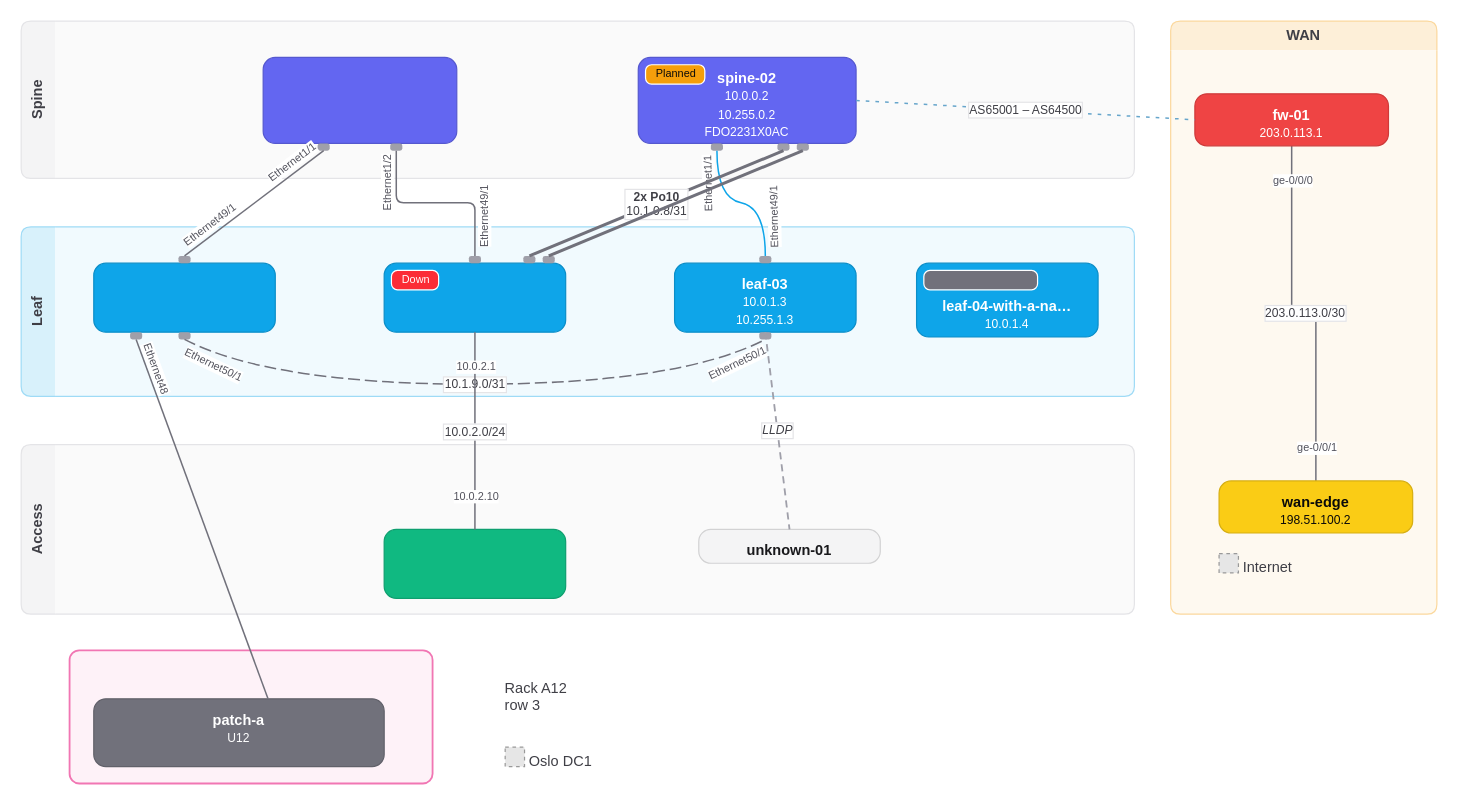
The diagram is 1458 pixels wide and 806 high, and some of its shapes have lost their labels. Grey dashed boxes stand in for pictures. The shapes that lost their labels are listed below. From the top down, each one's box as (x1, y1, x2, y2) in pixels, then its label:
(262, 56, 457, 143): spine-01 10.0.0.1 10.255.0.1 FDO2231X0AB
(93, 262, 275, 332): leaf-01 10.0.1.1 10.255.1.1
(383, 262, 566, 332): leaf-02 10.0.1.2 10.255.1.2
(923, 269, 1038, 290): Decommissionin…
(383, 528, 566, 598): a<b&"c 10.0.2.10 S/N >x'
(68, 649, 433, 784): Lab & <test>
